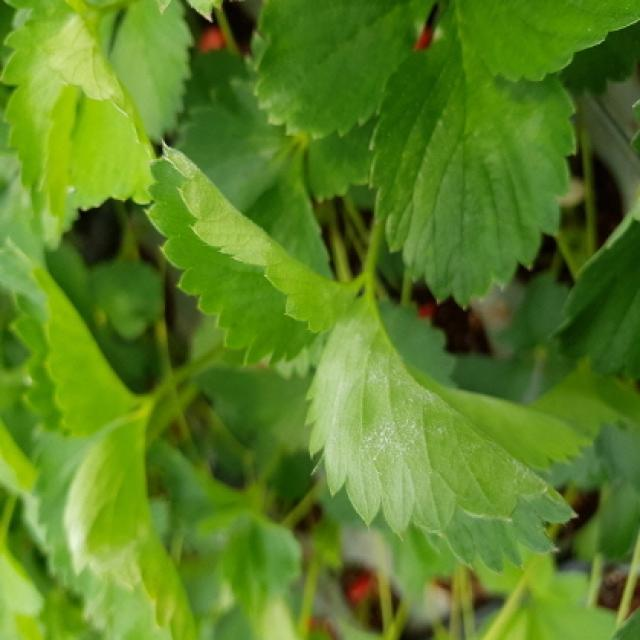powdery_mildew_leaf: (301, 281, 580, 576), (143, 136, 365, 368)
